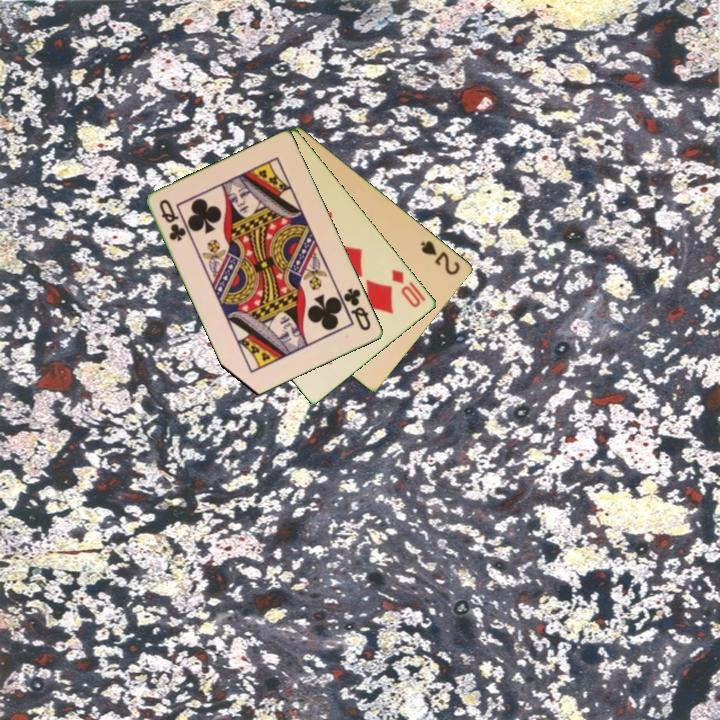10d: (388, 266, 424, 311)
2s: (418, 237, 463, 278)
Qc: (340, 284, 374, 334), (156, 196, 189, 245)
